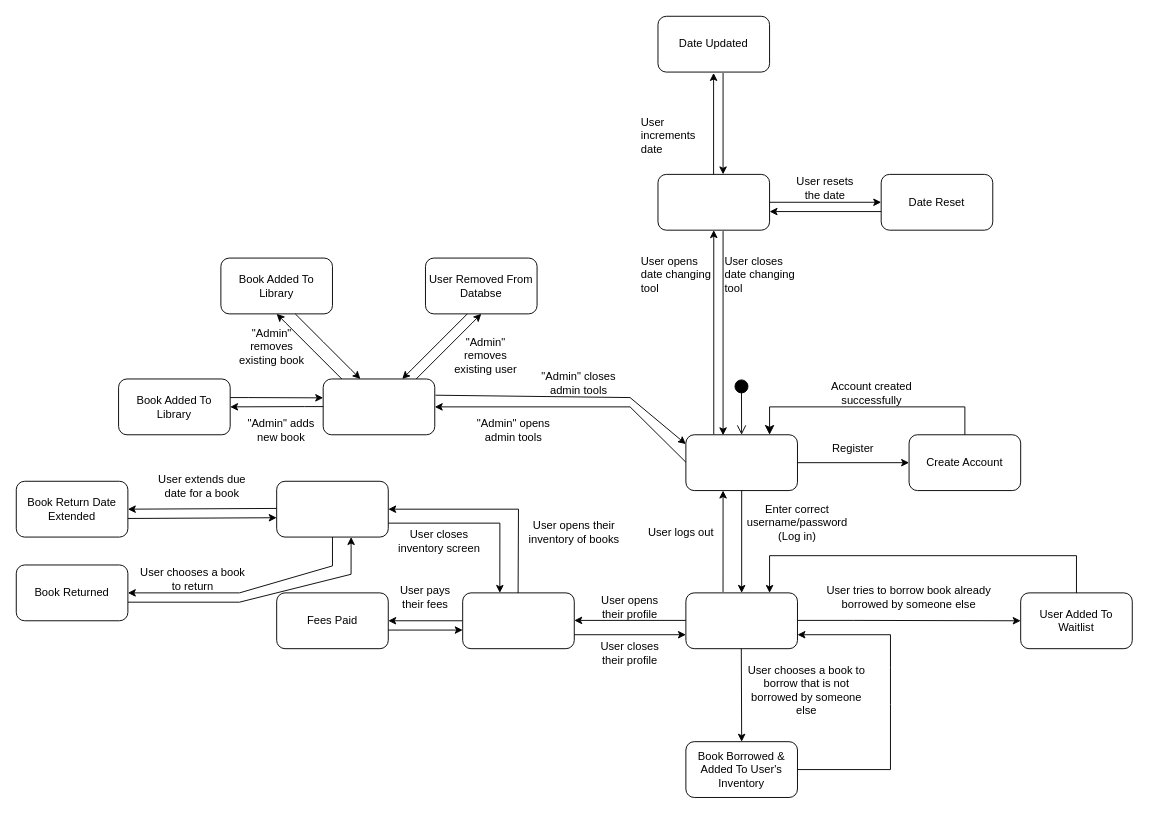
The diagram is 1149 pixels wide and 814 high, and some of its shapes have lost their labels. Here are the shapes that lost their labels. From the top down, the centre of each, then its label:
At (x=713, y=201): "Date Changing Screen".
At (x=378, y=406): "Admin Tools Screen".
At (x=741, y=462): "Idle/Login Screen".
At (x=332, y=508): "User's Book Inventory & Waitlist Screen".
At (x=518, y=620): "User Profile Screen".
At (x=741, y=620): "List of Available Books".
